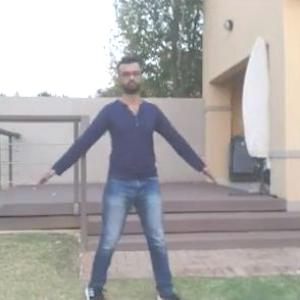land: (37, 60, 208, 299)
